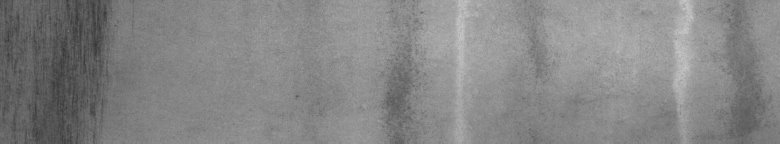ka: (4, 4, 108, 121)
